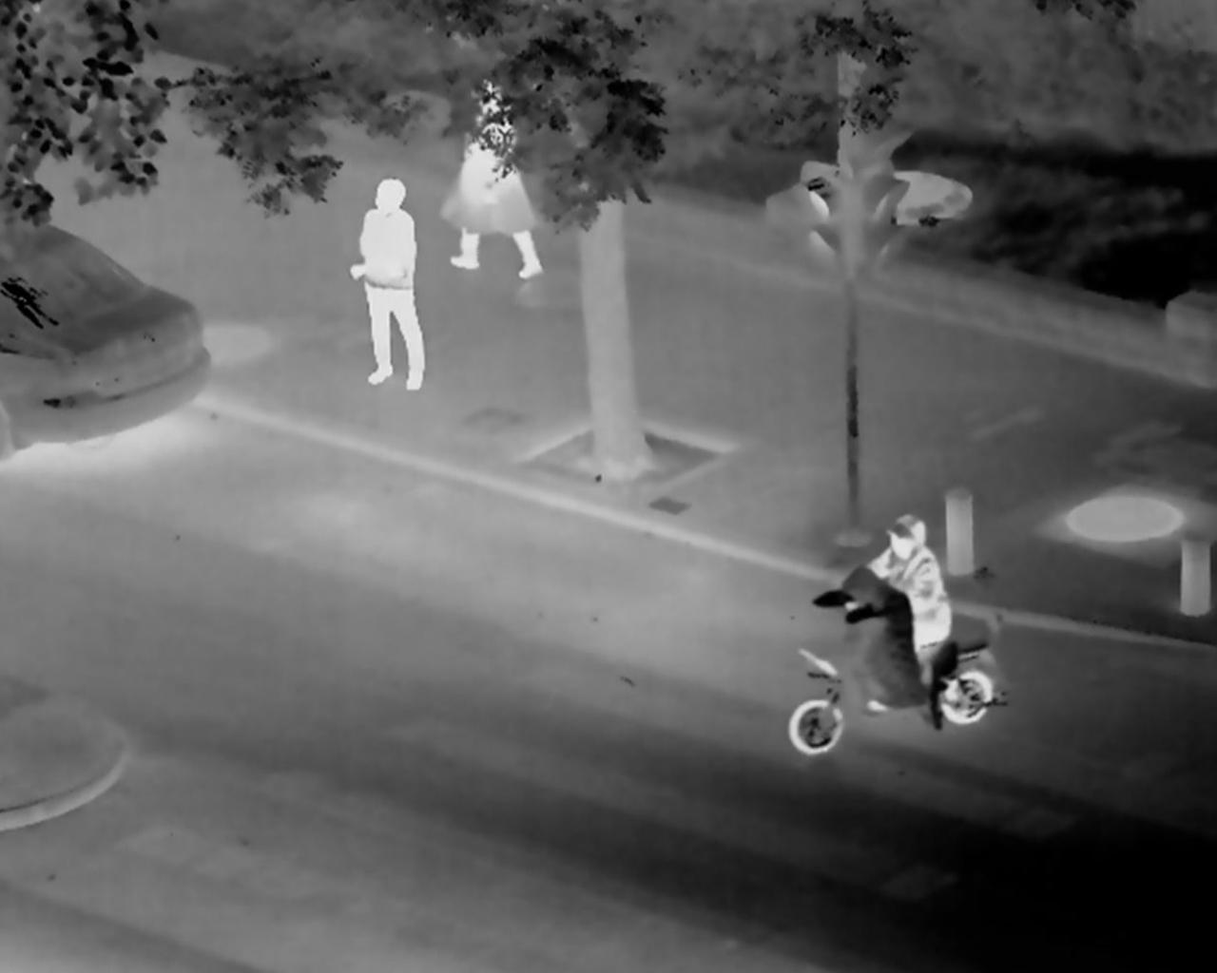person: (356, 172, 427, 427), (866, 511, 967, 683), (456, 101, 541, 295)
